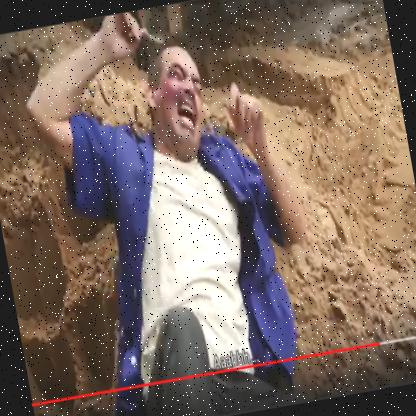sem_capacete: (136, 31, 218, 162)
sem_colete_refletivo: (89, 122, 296, 406)
